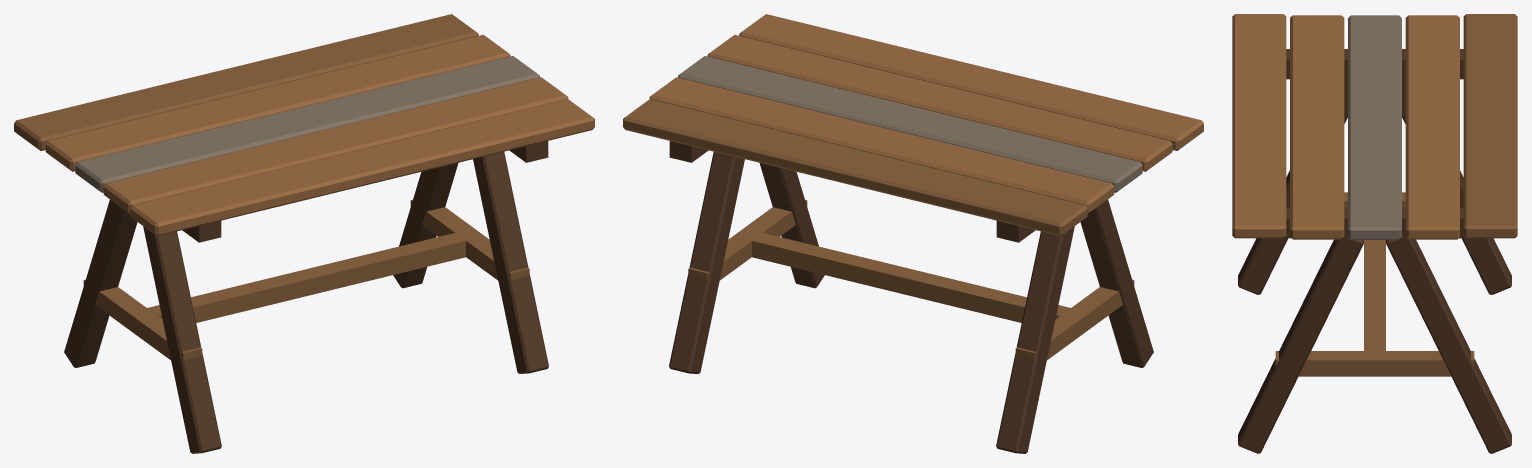
File: GardenTable.fbx
3 renders of one model, left to right at view 1: azimuth 30°, elevation 25°; view 2: azimuth 150°, elevation 25°; view 3: azimuth 270°, elevation 25°, orthographic.
Visible parts, largest first — view 1: GardenTable; view 2: GardenTable; view 3: GardenTable.
Boxes of the visible parts, left/top/right/bottom form: GardenTable: left=14, top=14, right=594, bottom=453; GardenTable: left=623, top=14, right=1203, bottom=453; GardenTable: left=1232, top=14, right=1517, bottom=453.
Size of the model in its own units: 1.41 by 0.7618 by 0.79.
Materials: 1 (1 with a texture image).
